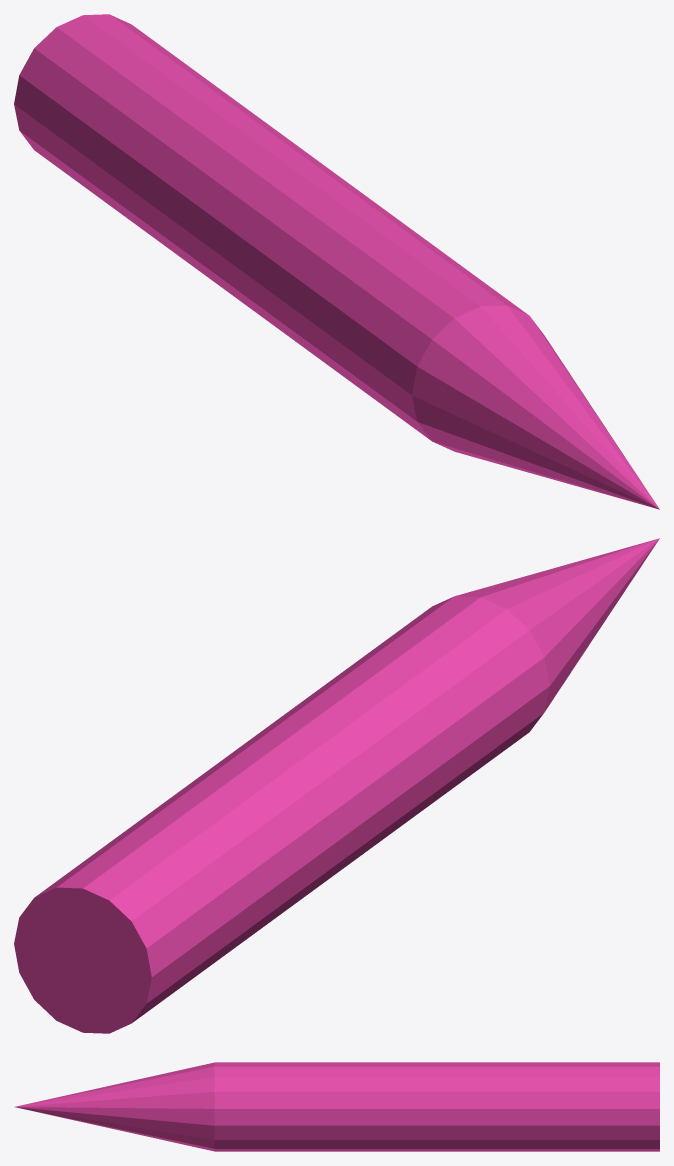
File: RaserBullet.gltf
3 views of the same model, one above another, from view 1: azimuth 30°, elevation 25°; view 2: azimuth 150°, elevation 25°; view 3: azimuth 270°, elevation 25° (orthographic). The views are drawn at different scales.
Parts seen in each view (by area): view 1: 円柱; view 2: 円柱; view 3: 円柱.
Part boxes in pixels (x1=…): 円柱: x1=14, y1=14, x2=659, y2=509; 円柱: x1=14, y1=538, x2=659, y2=1033; 円柱: x1=15, y1=1062, x2=659, y2=1151.
Bounding box in the file's own units: 11.24 × 11.24 × 81.49.
